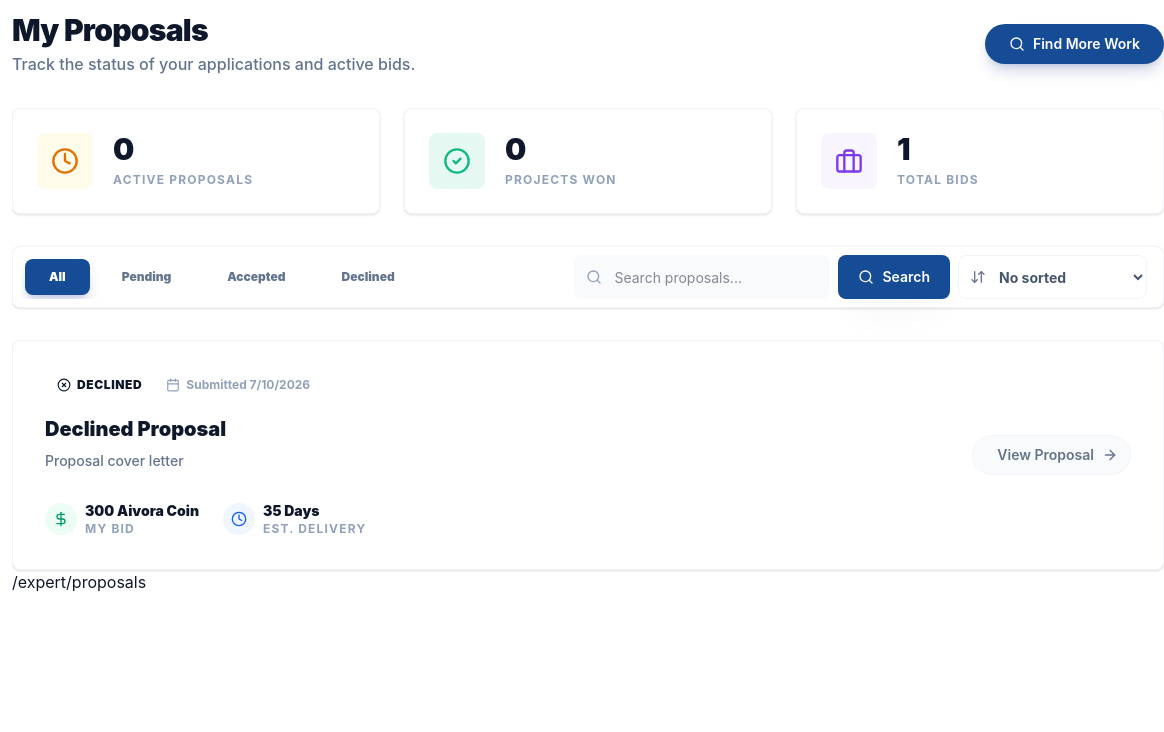
ExpertMyProposalsPage › Title navigation › navigates a declined proposal title to the shared proposal detail page
The width and height of the screenshot is (1164, 732).
Click the link "Declined Proposal" at (136, 430), box top-left (45, 417), bottom-right (226, 442)
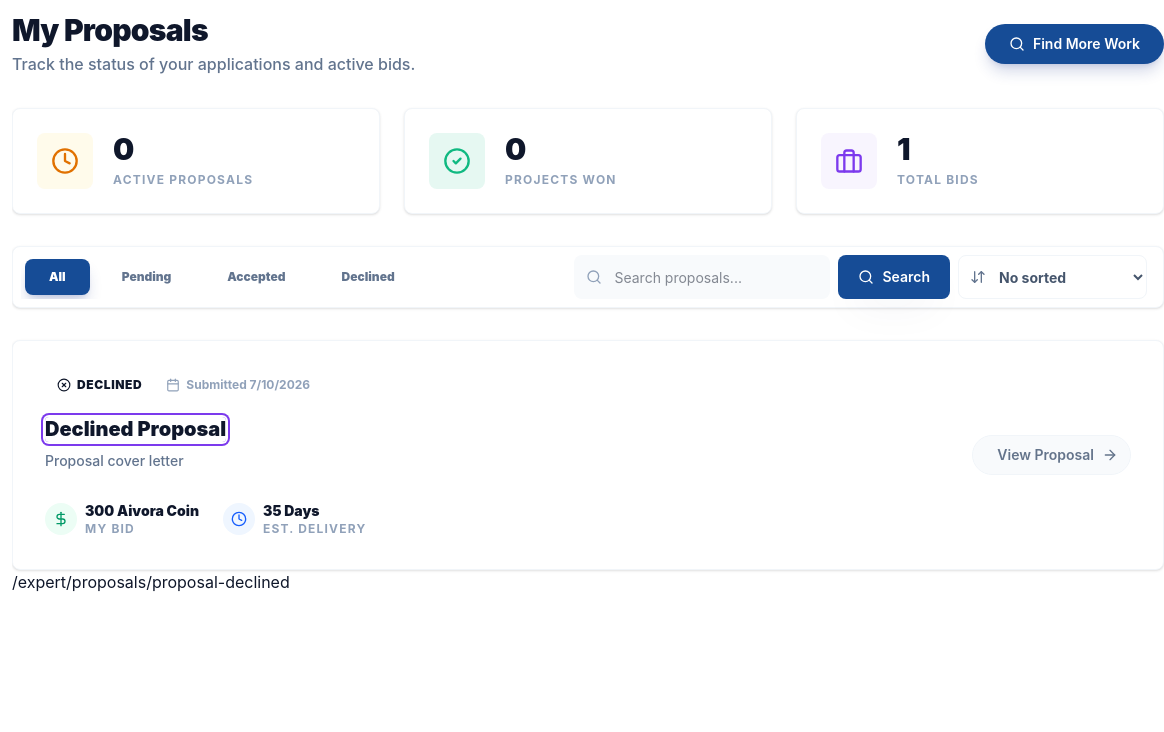
Check: the text named "current path" reads "/expert/proposals/proposal-declined", box top-left (12, 572), bottom-right (290, 592)
